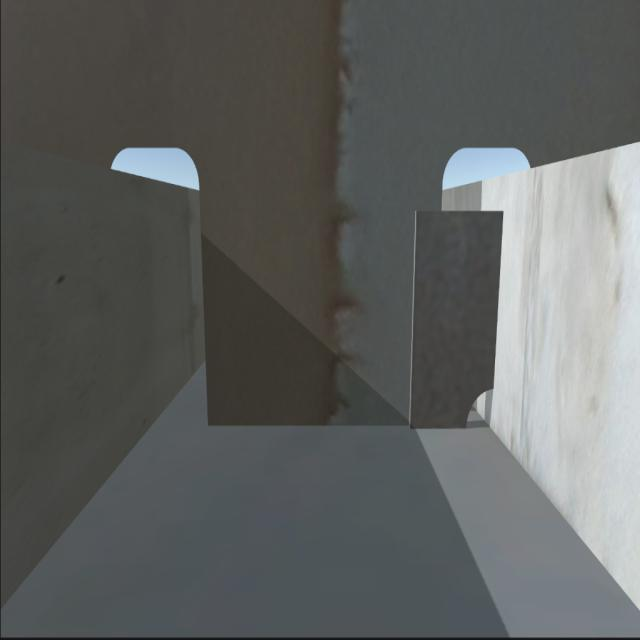fillet_hole: (453, 374, 489, 438)
fillet_yong_jeop_jang: (205, 409, 466, 435)
longi_yong_jeop_jang: (499, 212, 503, 390)
plate_CP01: (414, 213, 495, 424)
